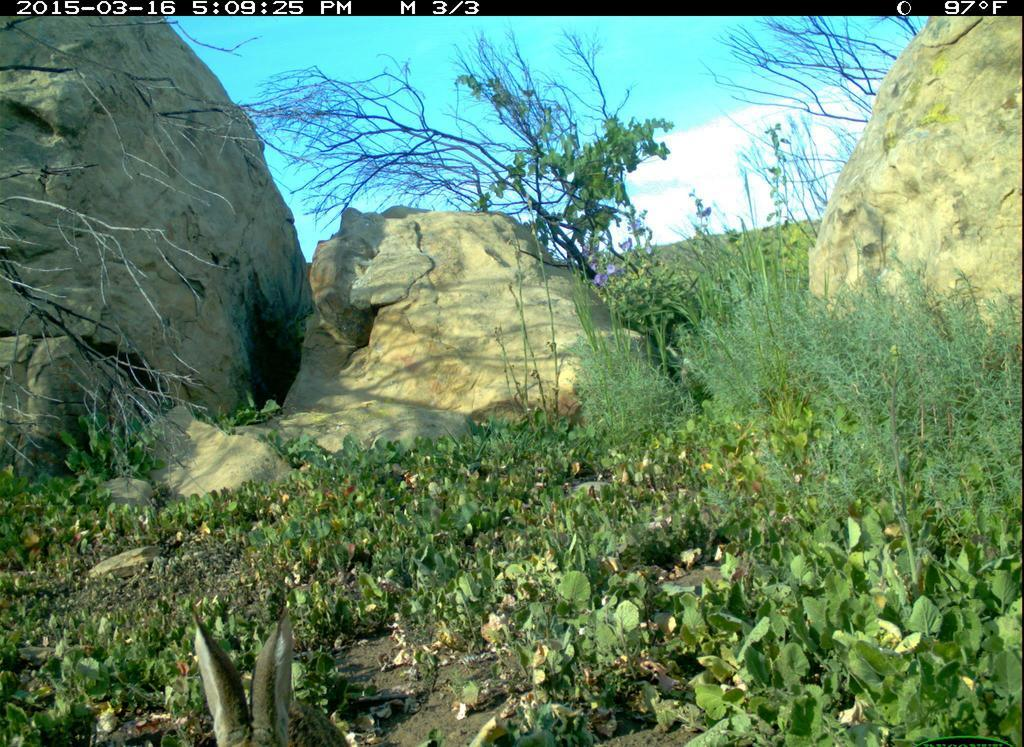rabbit: (184, 597, 356, 747)
